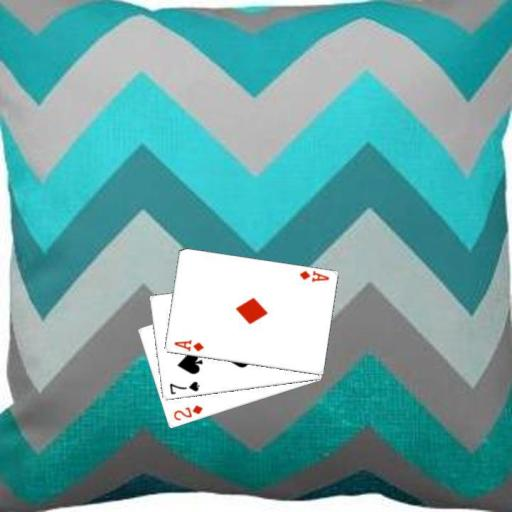2D: (170, 402, 204, 422)
7S: (167, 379, 201, 396)
AD: (296, 267, 330, 284), (171, 337, 205, 353)
